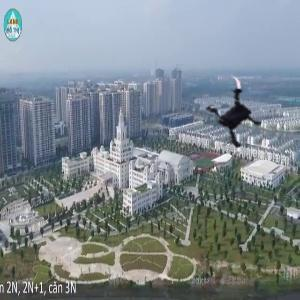drone: (189, 74, 278, 163)
